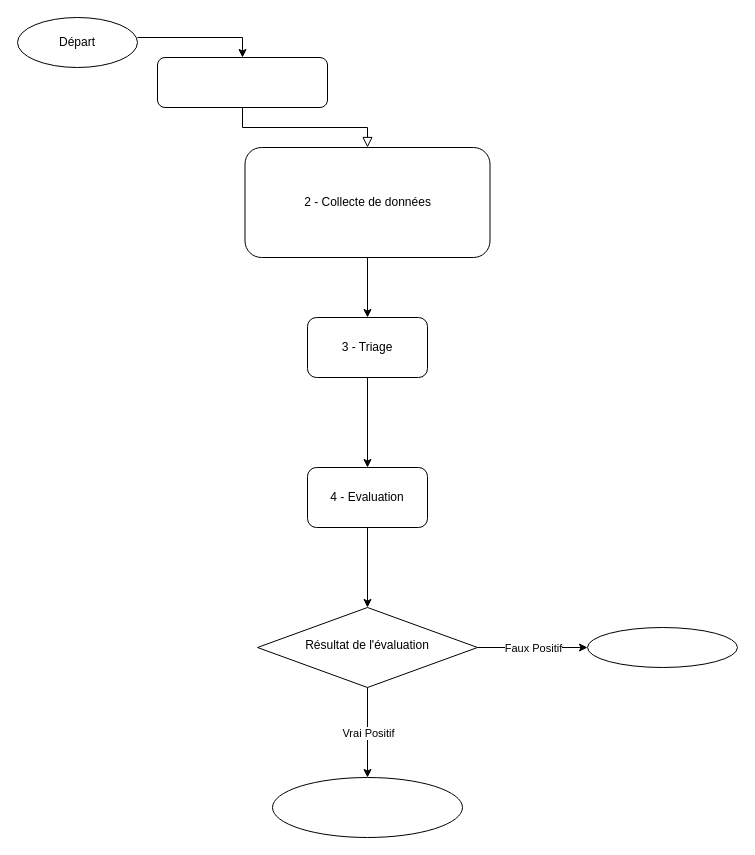
This 755x855 diagram has some shape labels left out. Here are the shapes that lost their labels. From the top down, the box of each, then its label:
(156, 56, 328, 108): 1 - Détection d'Identifiants Compromis
(586, 626, 738, 668): Exclusion et Cloture
(272, 776, 462, 838): Escalade
